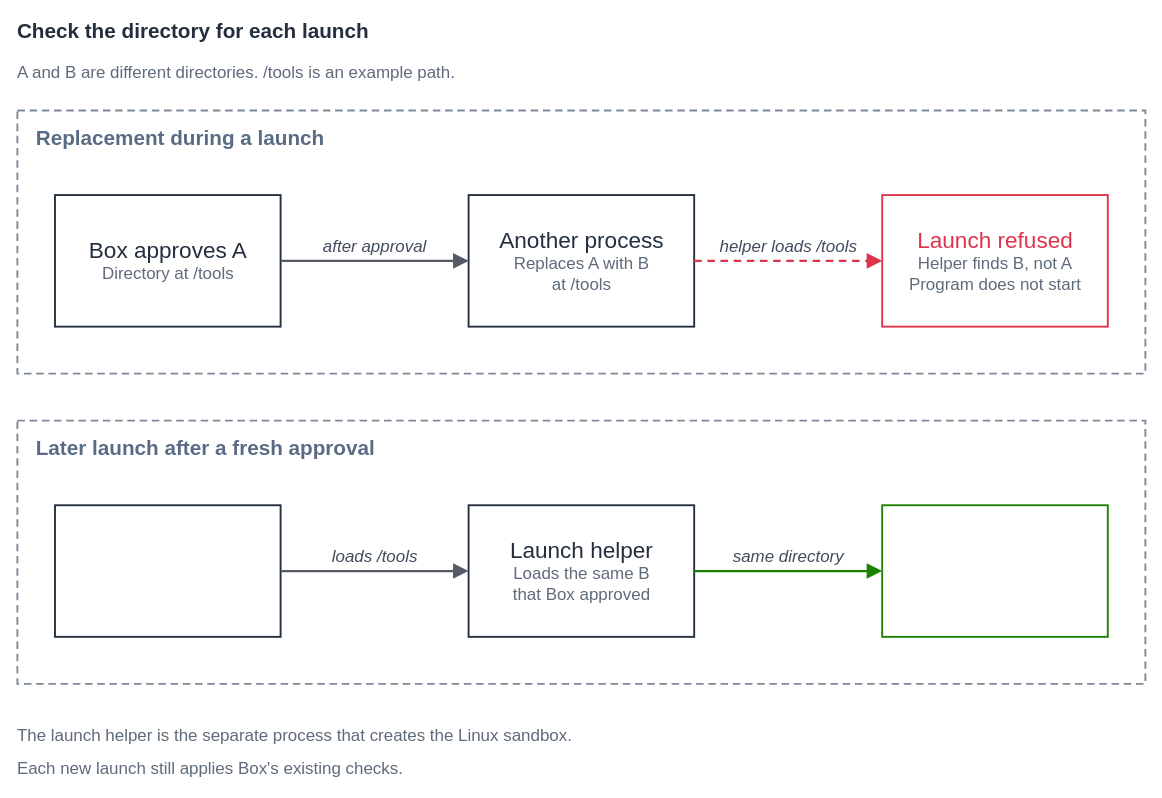
Image size: 1162x798. Some labels were removed from this diagram. The shapes that lost their labels are listed below. From the top down, each one's box as (x1, y1, x2, y2) in pixels, then its label:
(54, 504, 281, 637): Box approves B Directory now at /tools
(881, 504, 1108, 637): Program starts Inside its sandbox
